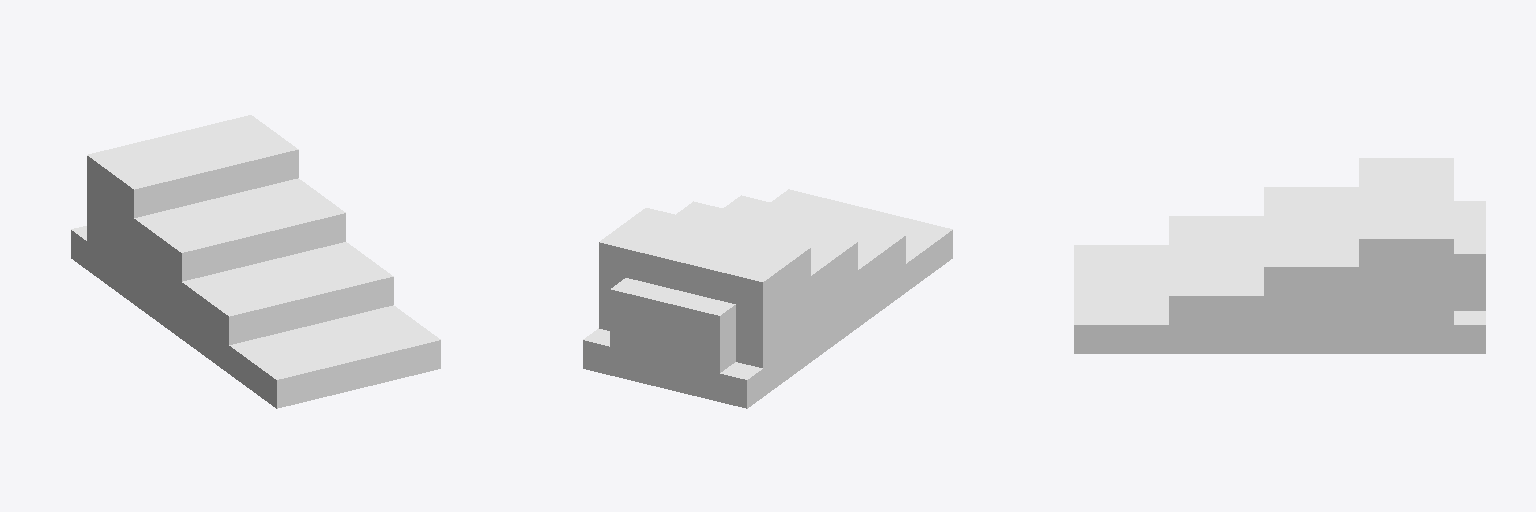
The model's file is bird_head.obj.
3 renders of one model, left to right at view 1: azimuth 30°, elevation 25°; view 2: azimuth 150°, elevation 25°; view 3: azimuth 270°, elevation 25°, orthographic.
Size of the model in its own units: 6 by 4 by 13.